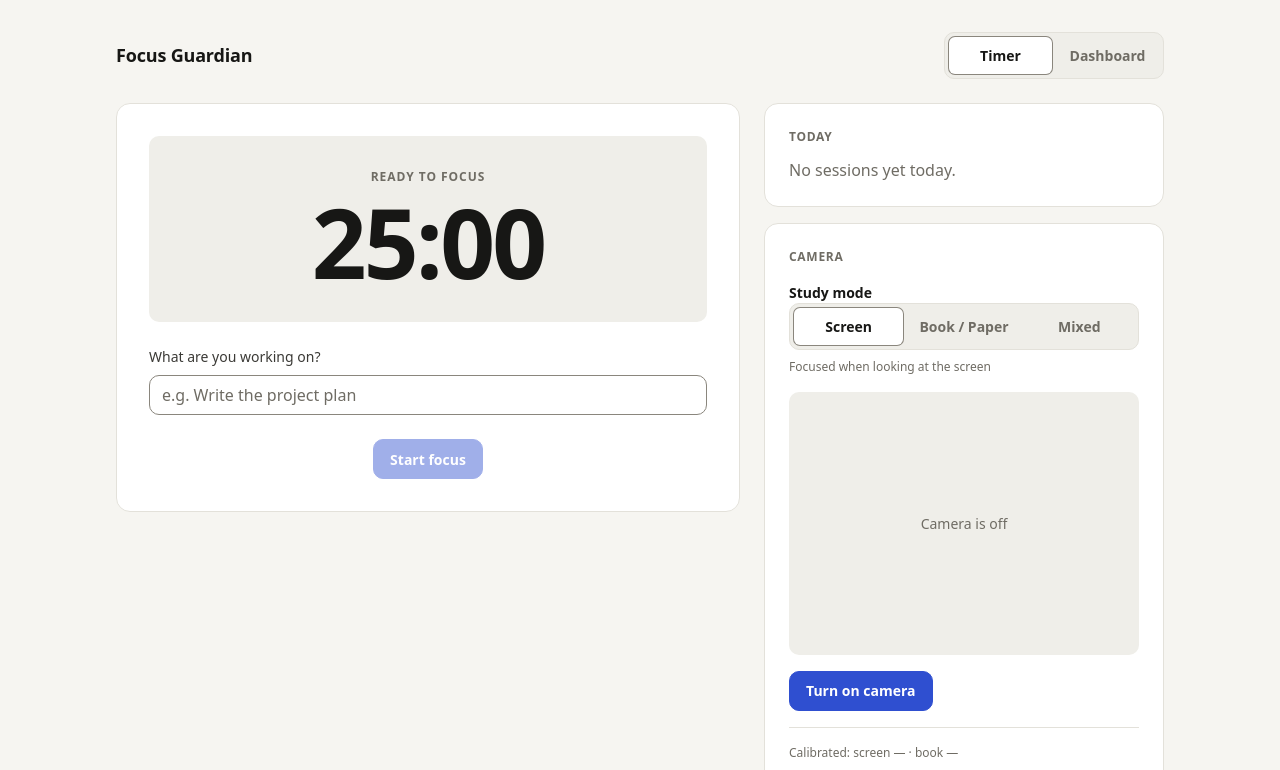
it: App › saves a stopped session, counts it today, and keeps the intention for next time
Type "Revise chapter 3" into the field labelled "What are you working on?".
click(428, 395); type("Revise chapter 3")  # box [149,375,707,415]
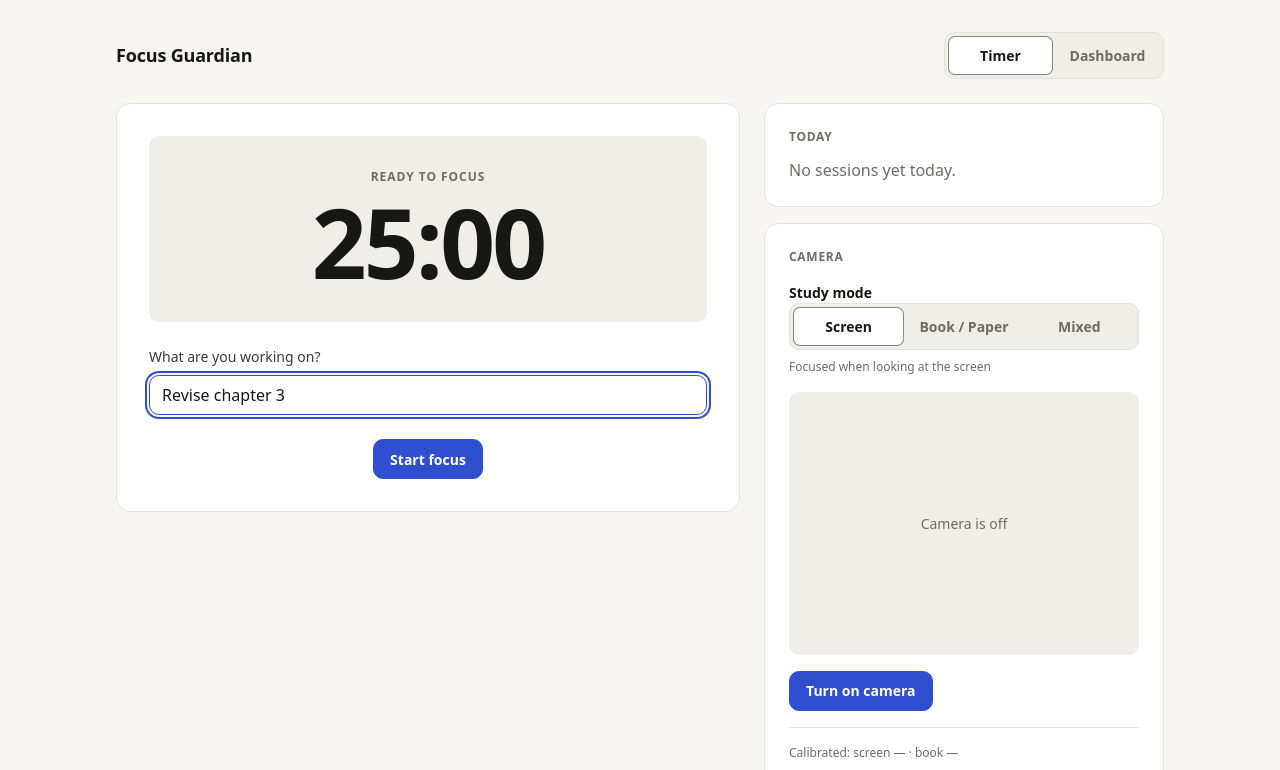
Press Enter in the field labelled "What are you working on?", box [149,375,707,415]
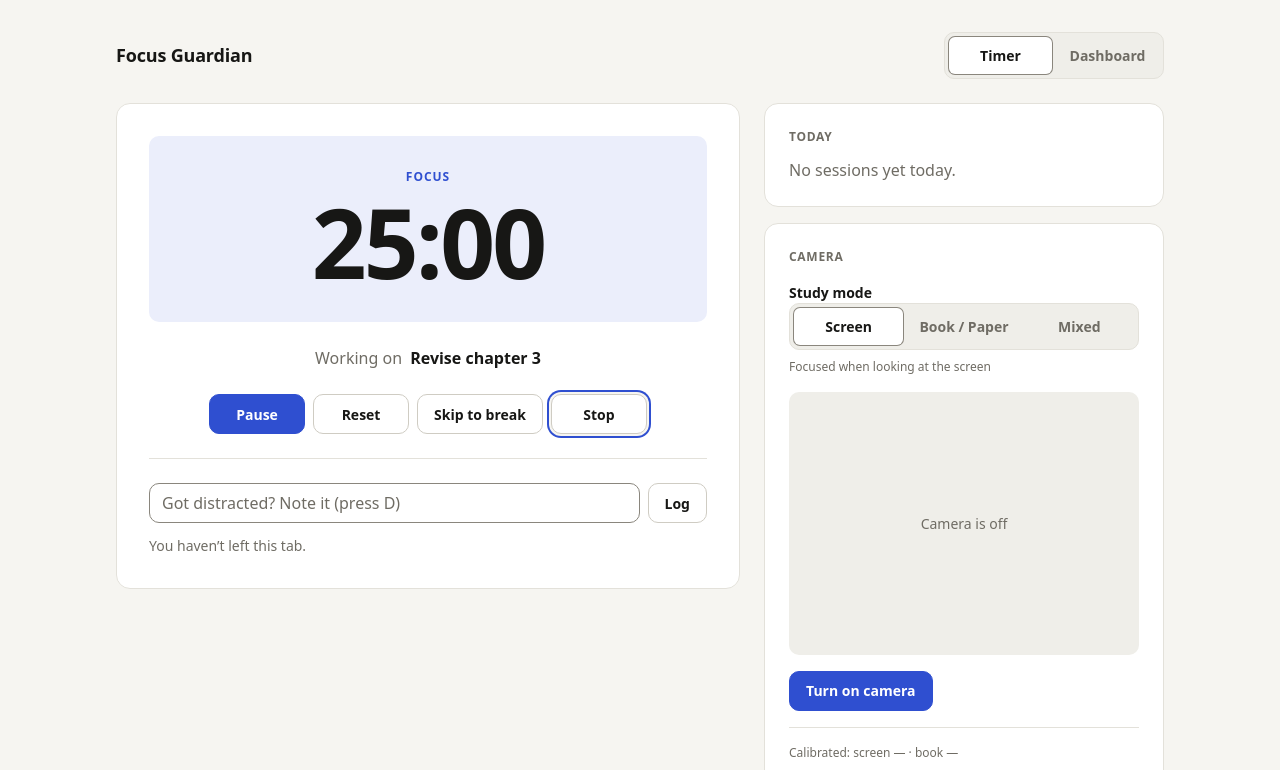
Click the button "Stop".
click(599, 414)  # box [551,394,647,434]
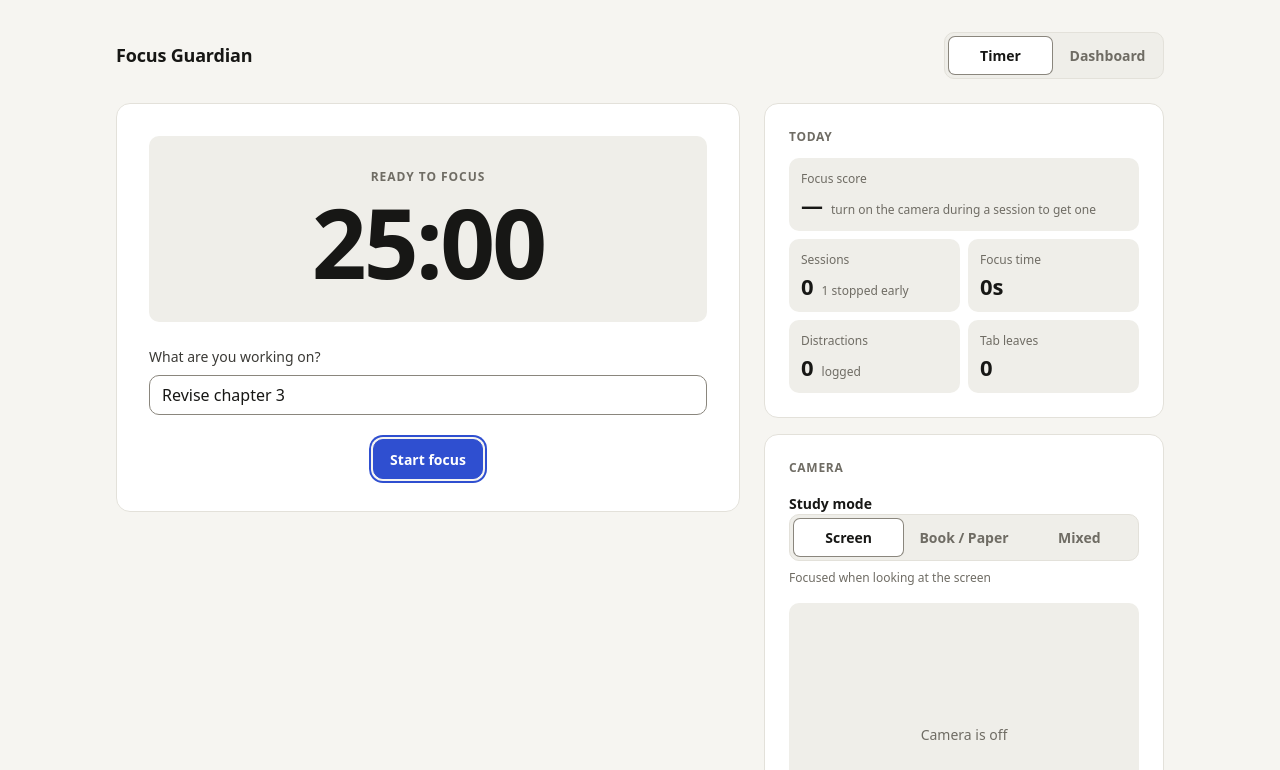
Result: the text "1 stopped early" is shown at [822,282,909,300]
Result: the field labelled "What are you working on?" holds "Revise chapter 3" at [149,375,707,415]
